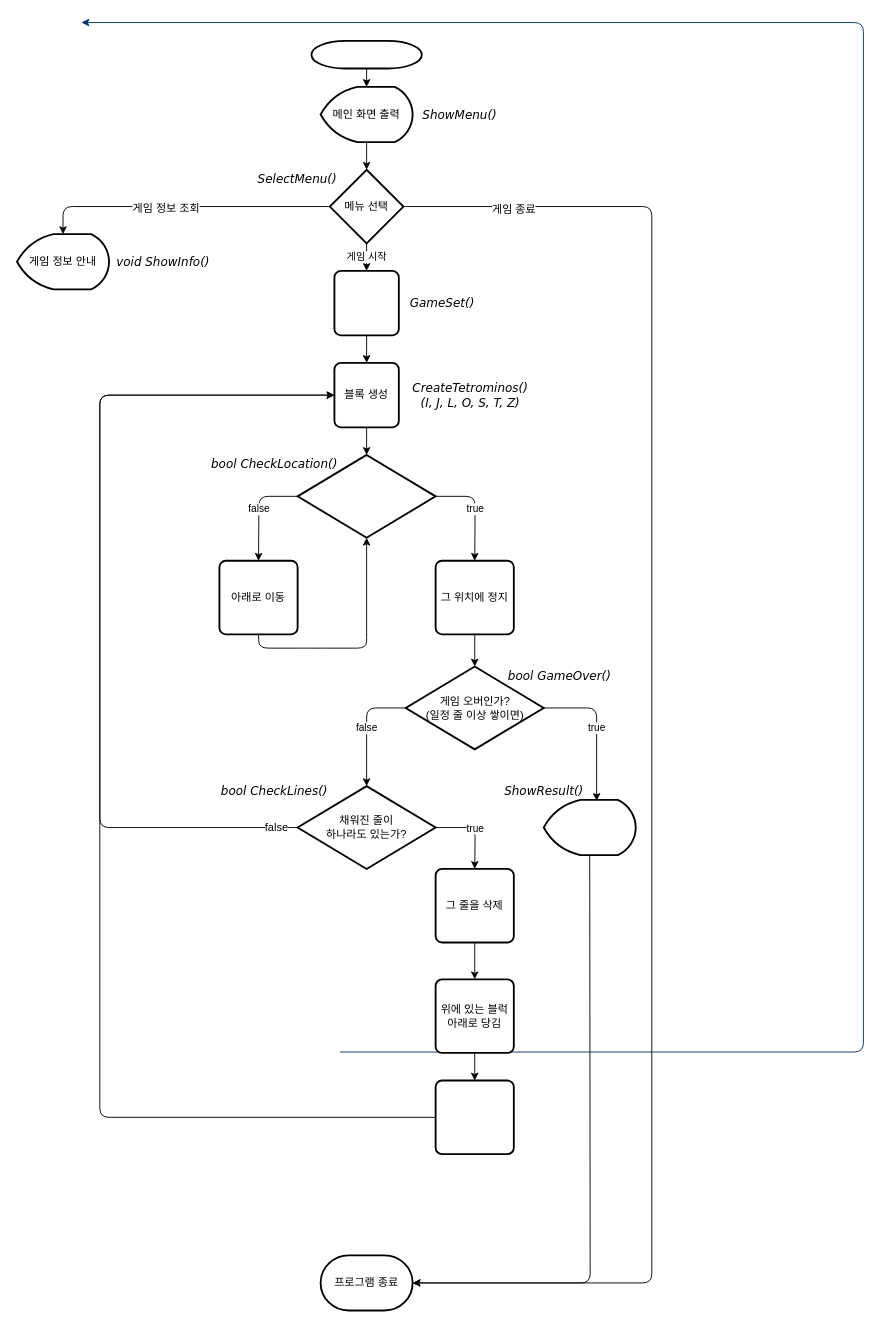
Image size: 887x1328. Some labels were removed from this diagram. Here are the shapes that lost their labels. From the top down, the centre of each, then its label:
the point at 366,54: 프로그램 시작
the point at 366,303: 배경 출력 초기 설정 (시간, 점수)
the point at 366,496: 장애물이 있어 이동이 불가능한가?
the point at 589,827: 게임 결과 출력
the point at 474,1117: 점수 증가
